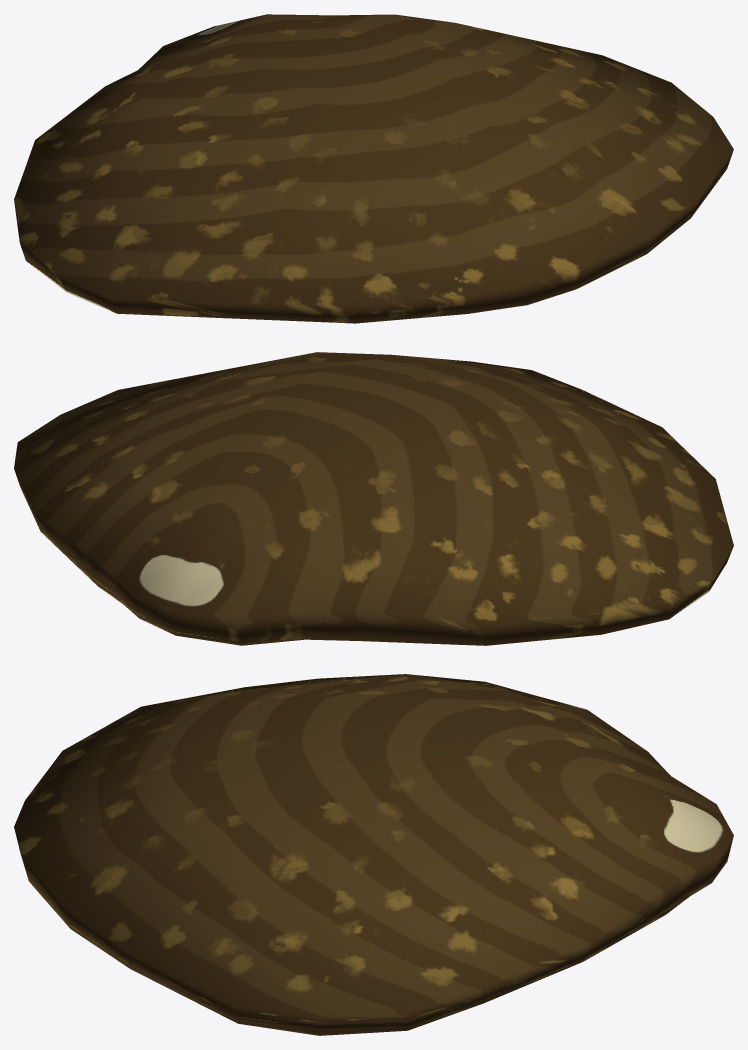
The model's file is astarteBorea00.fbx.
The picture shows the model from 3 angles, top to bottom: view 1: azimuth 30°, elevation 25°; view 2: azimuth 150°, elevation 25°; view 3: azimuth 270°, elevation 25°; orthographic projection. The views are drawn at different scales.
Parts seen in each view (by area): view 1: astBorea_temp.003; view 2: astBorea_temp.003; view 3: astBorea_temp.003.
Part boxes in pixels (x1,y1,x2,y2): astBorea_temp.003: (14,14,733,323); astBorea_temp.003: (14,352,733,645); astBorea_temp.003: (14,674,733,1035).
Bounding box in the file's own units: 0.632 × 0.1188 × 0.5675.
1 material, 1 textured.
